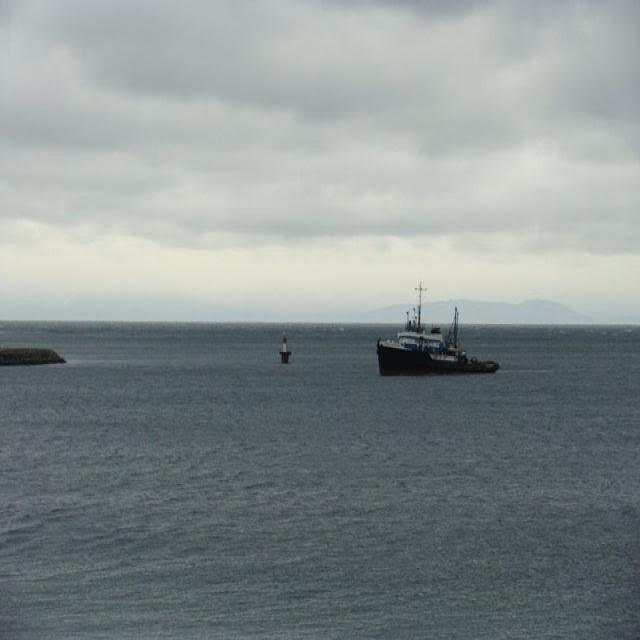fishing boat: (370, 280, 492, 377)
